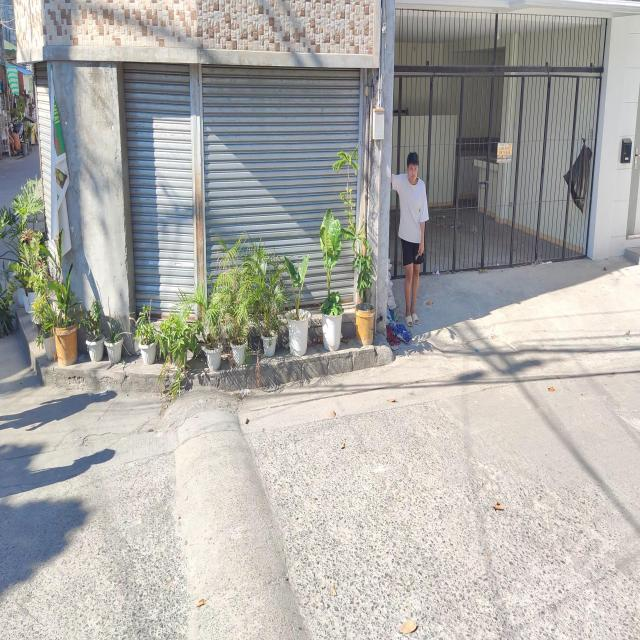hammer: (415, 250, 424, 261)
